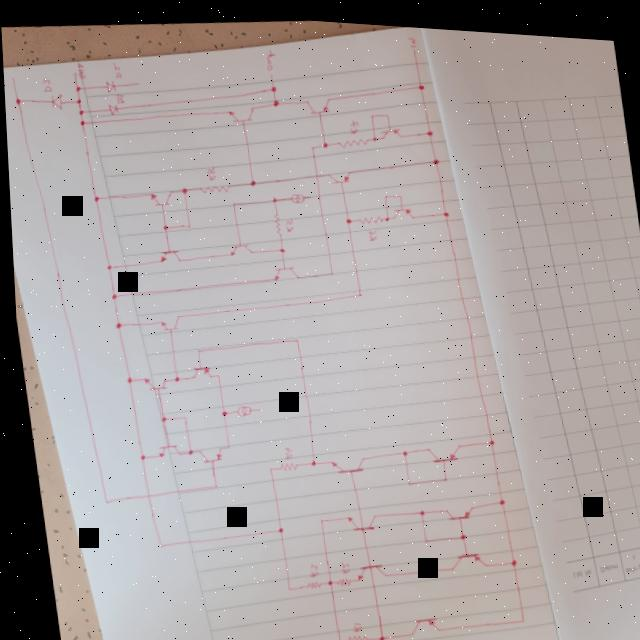crossover: (138, 490, 148, 499), (310, 168, 317, 175)
diode: (47, 91, 64, 111), (102, 78, 116, 92), (104, 101, 118, 114)
junction: (267, 80, 277, 91), (72, 83, 82, 94), (11, 96, 21, 106), (269, 94, 279, 104), (133, 451, 143, 461), (158, 221, 168, 231), (438, 203, 448, 213), (502, 551, 512, 561), (74, 106, 84, 116), (414, 77, 425, 86), (452, 527, 463, 536), (101, 261, 110, 271), (246, 175, 256, 184), (429, 151, 438, 161), (424, 122, 433, 132), (106, 290, 115, 300), (109, 320, 119, 329), (121, 374, 130, 384), (395, 443, 404, 453), (269, 523, 279, 532), (341, 212, 351, 221), (412, 503, 421, 513), (76, 118, 86, 127), (267, 192, 277, 201), (303, 454, 312, 464), (491, 491, 501, 500), (72, 96, 82, 105), (154, 413, 163, 422), (89, 193, 98, 202), (177, 184, 186, 193), (205, 480, 214, 489), (482, 432, 491, 441), (370, 629, 379, 638), (511, 609, 520, 618), (214, 406, 223, 415), (274, 243, 284, 251), (319, 137, 328, 145), (96, 496, 104, 505), (289, 333, 297, 341), (150, 540, 158, 548), (168, 373, 176, 381), (353, 286, 360, 294), (416, 532, 423, 540), (325, 265, 332, 273), (400, 474, 407, 482), (436, 470, 444, 477), (312, 513, 319, 521), (176, 412, 183, 420), (279, 582, 286, 589), (182, 221, 189, 228), (228, 198, 235, 205), (262, 462, 269, 469), (320, 576, 327, 583), (369, 130, 376, 137), (210, 369, 217, 376), (381, 211, 388, 217), (328, 634, 335, 640), (191, 345, 197, 351), (308, 140, 314, 146), (367, 109, 373, 114), (220, 441, 225, 447), (396, 189, 400, 194), (384, 108, 388, 113), (381, 189, 385, 193)
resistor: (195, 178, 229, 194), (334, 131, 367, 145), (354, 209, 382, 223), (268, 207, 280, 235), (335, 628, 362, 640), (327, 571, 348, 585), (272, 457, 295, 469), (296, 575, 316, 586)
terminal: (132, 78, 140, 86), (409, 42, 416, 49), (7, 76, 14, 83), (252, 403, 259, 409), (305, 190, 311, 195), (267, 69, 272, 74), (71, 71, 75, 75)
text: (263, 46, 276, 68), (346, 114, 360, 131), (200, 163, 214, 180), (73, 63, 85, 82), (301, 558, 314, 575), (276, 442, 290, 457), (41, 76, 52, 95), (281, 212, 292, 230), (362, 224, 376, 238), (111, 63, 122, 77), (333, 557, 346, 568), (407, 31, 417, 44), (114, 92, 125, 103), (345, 617, 356, 628)
transformer: (230, 400, 248, 414), (287, 189, 303, 201)
transistor: (398, 605, 436, 636), (346, 554, 385, 581), (442, 542, 482, 568), (323, 450, 362, 476), (336, 504, 373, 531), (419, 435, 458, 460), (226, 101, 256, 125), (303, 90, 331, 114), (153, 244, 183, 264), (152, 310, 178, 332), (192, 443, 220, 463), (323, 163, 351, 183), (388, 197, 414, 218), (439, 500, 469, 518), (267, 260, 295, 279), (146, 187, 171, 208), (139, 372, 165, 392), (377, 118, 402, 138), (151, 440, 178, 458), (224, 237, 251, 255), (187, 361, 208, 378)
